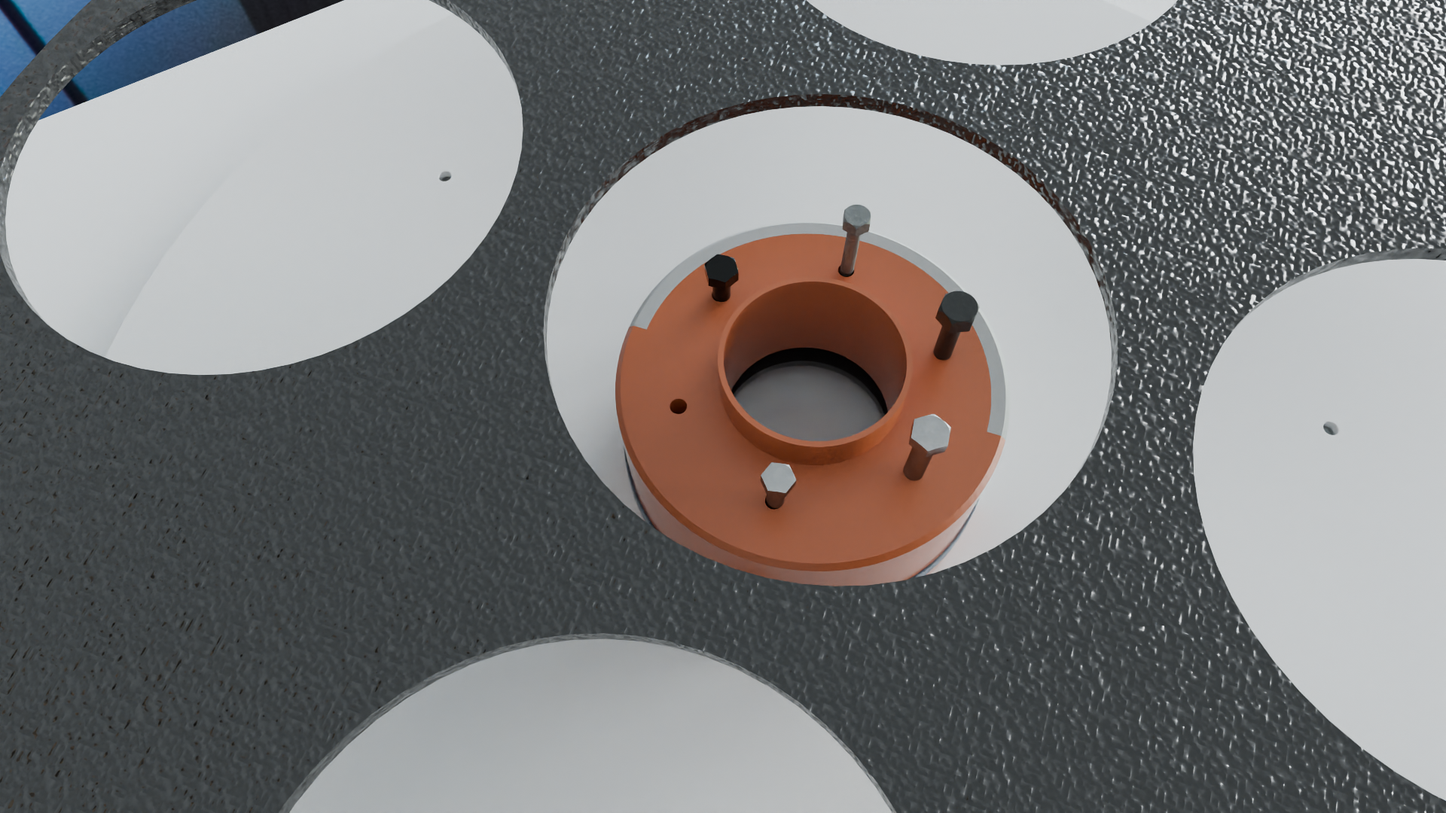bolt: (911, 414, 950, 451), (938, 291, 980, 324), (761, 462, 796, 493), (704, 254, 739, 283), (843, 205, 871, 230)
